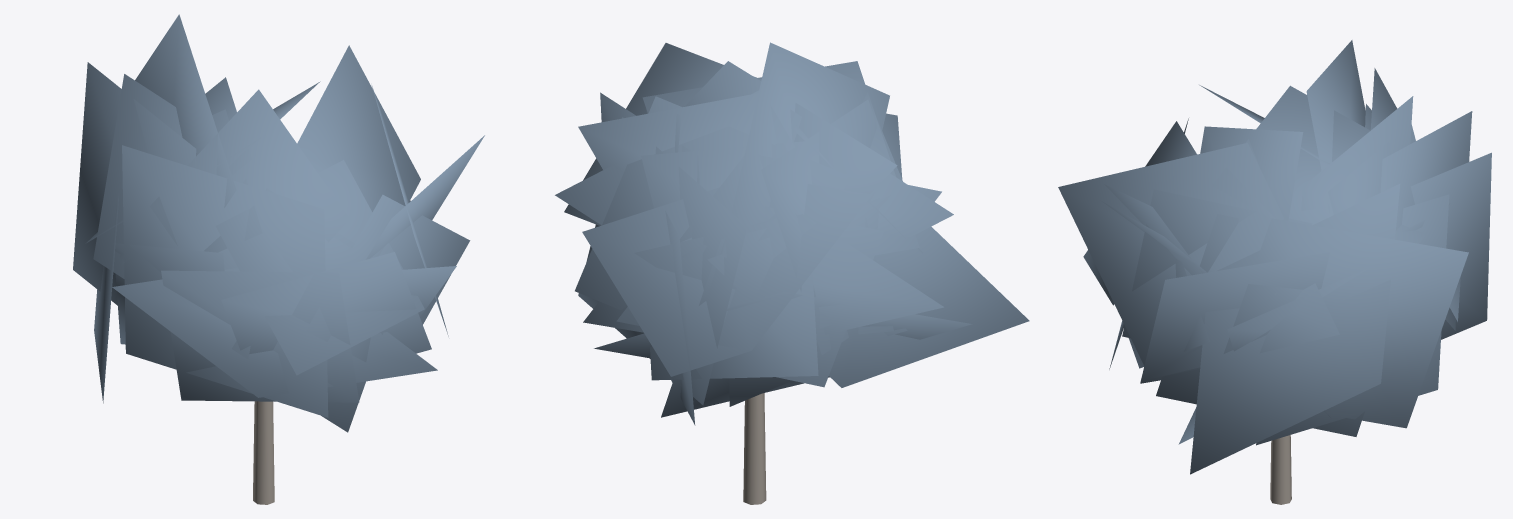
The model's file is oak3.glb.
The picture shows the model from 3 angles, left to right: view 1: azimuth 30°, elevation 25°; view 2: azimuth 150°, elevation 25°; view 3: azimuth 270°, elevation 25°; orthographic projection. The views are drawn at different scales.
Visible parts, largest first — view 1: leaves, bark; view 2: leaves, bark; view 3: leaves, bark.
Boxes of the visible parts, <box> form: leaves: <box>73,14,484,432</box>; bark: <box>253,401,274,504</box>; leaves: <box>555,42,1029,425</box>; bark: <box>743,393,766,504</box>; leaves: <box>1058,40,1491,474</box>; bark: <box>1270,435,1291,504</box>.
Size of the model in its own units: 15.48 by 17.94 by 15.5.
